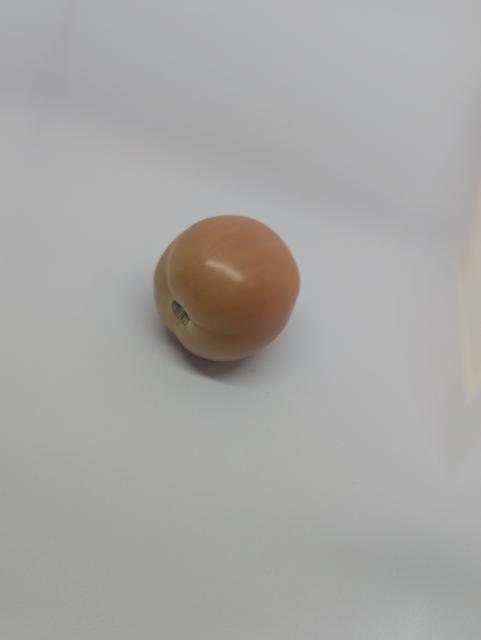turning: (142, 211, 309, 369)
